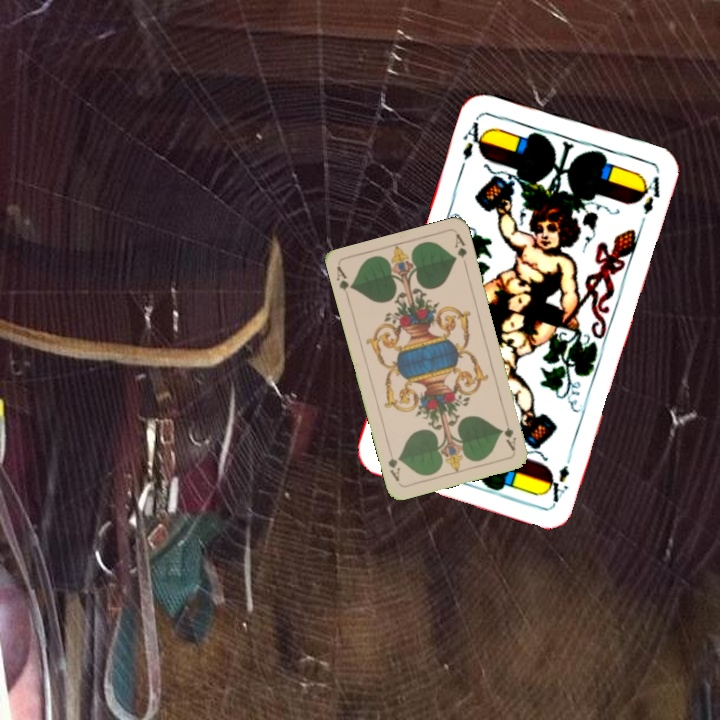EA: (542, 447, 575, 505), (458, 114, 489, 163)
GA: (500, 414, 519, 453), (332, 263, 356, 293)
